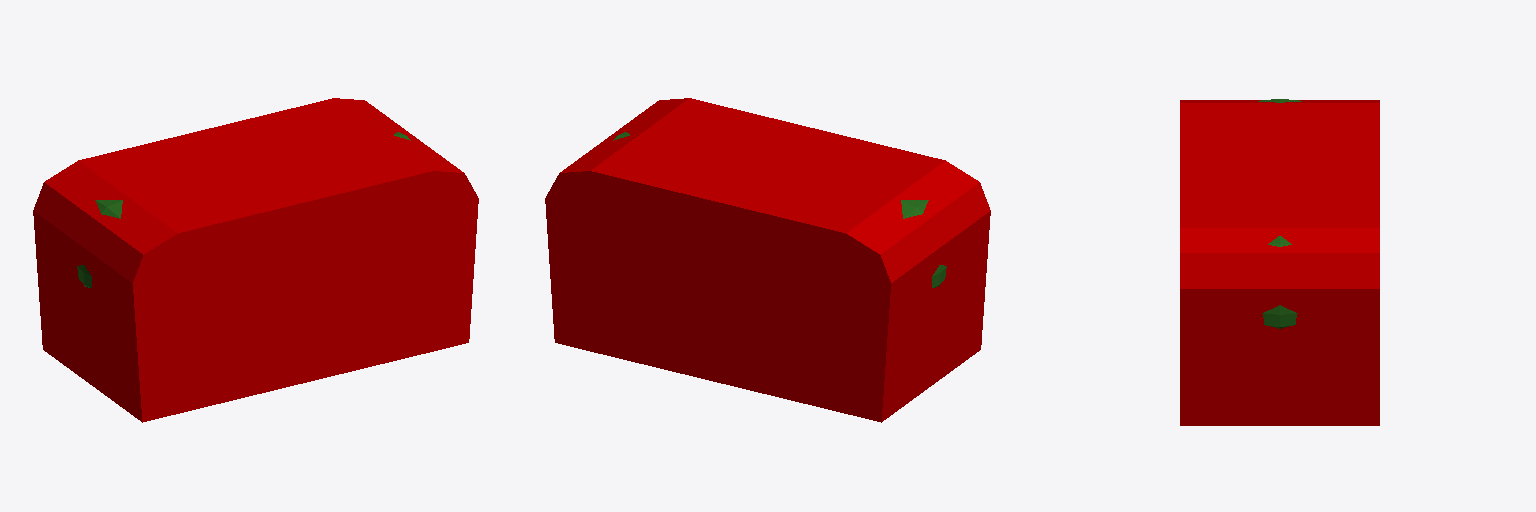
Rendered from Platform02.obj.
3 renders of one model, left to right at view 1: azimuth 30°, elevation 25°; view 2: azimuth 150°, elevation 25°; view 3: azimuth 270°, elevation 25°, orthographic.
Visible parts, largest first — view 1: Platform_2_invisible_fullhitbox_Platform_4_invisible_fullhitbox., Platform_2_Platform_nohitbox_2; view 2: Platform_2_invisible_fullhitbox_Platform_4_invisible_fullhitbox., Platform_2_Platform_nohitbox_2; view 3: Platform_2_invisible_fullhitbox_Platform_4_invisible_fullhitbox., Platform_2_Platform_nohitbox_2.
Part boxes in pixels (x1,y1,x2,y2): Platform_2_invisible_fullhitbox_Platform_4_invisible_fullhitbox.: (33, 98, 478, 422); Platform_2_Platform_nohitbox_2: (77, 132, 410, 287); Platform_2_invisible_fullhitbox_Platform_4_invisible_fullhitbox.: (545, 98, 990, 422); Platform_2_Platform_nohitbox_2: (613, 132, 946, 287); Platform_2_invisible_fullhitbox_Platform_4_invisible_fullhitbox.: (1180, 100, 1379, 425); Platform_2_Platform_nohitbox_2: (1258, 99, 1301, 328).
Bounding box in the file's own units: 2.01 × 1 × 1.